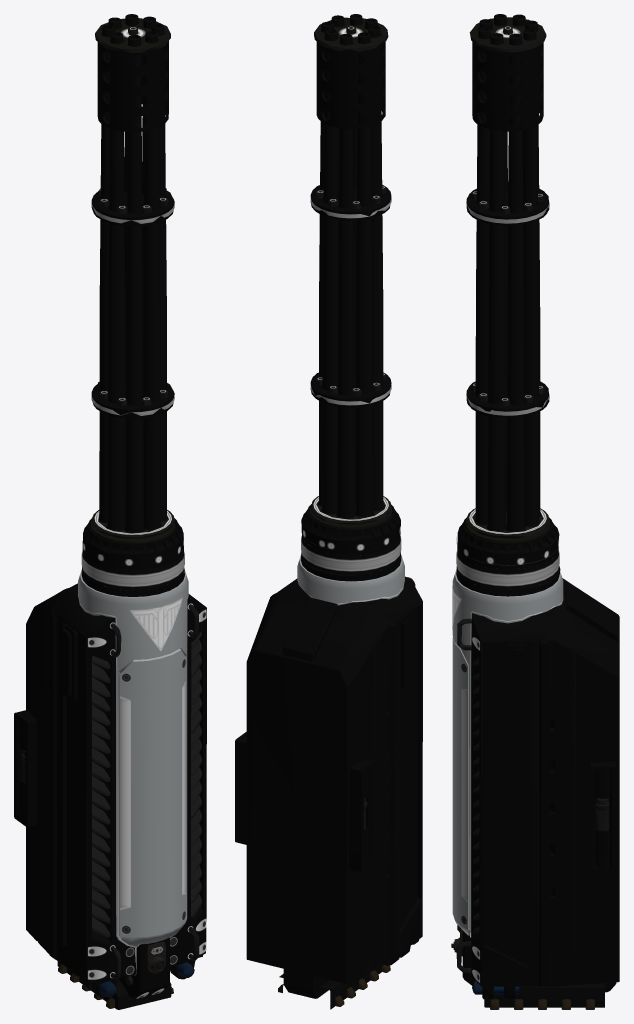
Rendered from tigerstrike-t-19p.glb.
3 renders of one model, left to right at view 1: azimuth 30°, elevation 25°; view 2: azimuth 150°, elevation 25°; view 3: azimuth 270°, elevation 25°, orthographic. The views are drawn at different scales.
Parts seen in each view (by area): view 1: Housing; view 2: Housing; view 3: Housing.
Boxes of the visible parts, x1,y1,x2,y2 form: Housing: [14, 14, 206, 1009]; Housing: [235, 14, 422, 1009]; Housing: [451, 14, 619, 1009].
Size of the model in its own units: 0.4715 by 3.35 by 0.5271.
7 materials, 3 textured.
